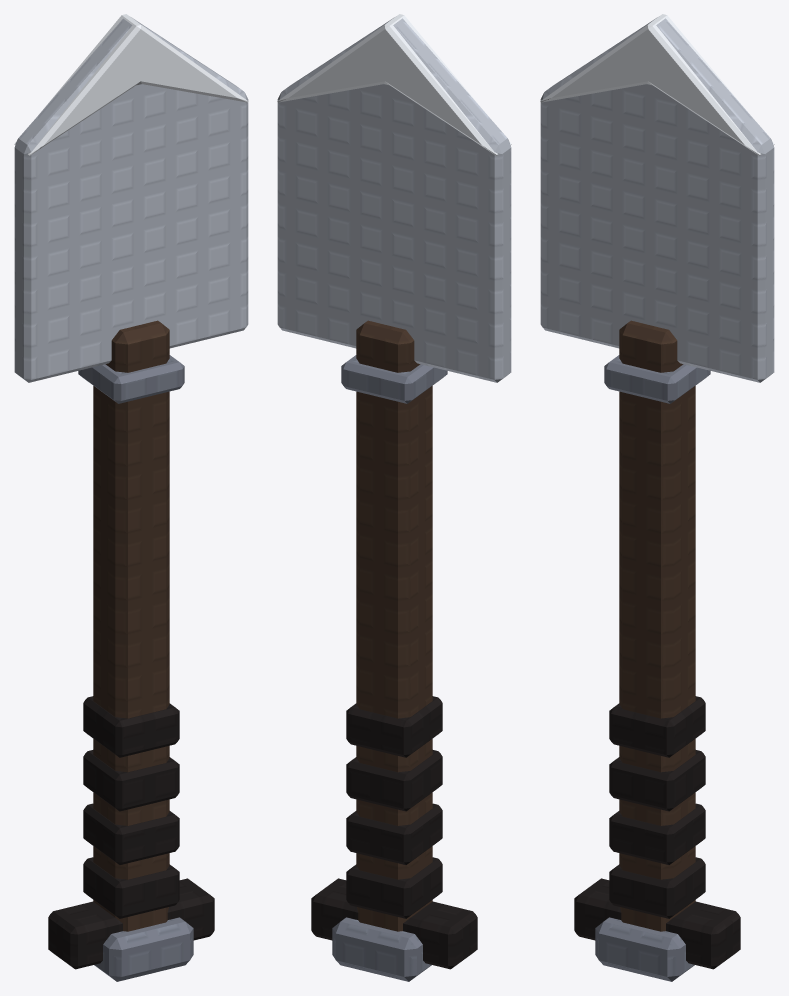
The model's file is outil_06_pelle_en_fer.glb.
3 views of the same model, side by side, from view 1: azimuth 30°, elevation 25°; view 2: azimuth 150°, elevation 25°; view 3: azimuth 330°, elevation 25° (orthographic).
Visible parts, largest first — view 1: outil_06_pelle_en_fer; view 2: outil_06_pelle_en_fer; view 3: outil_06_pelle_en_fer.
Boxes of the visible parts, box(x1,y1,x2,y2) form: outil_06_pelle_en_fer: box(14, 14, 248, 981); outil_06_pelle_en_fer: box(277, 14, 511, 981); outil_06_pelle_en_fer: box(540, 14, 774, 981).
Bounding box in the file's own units: 1.4 × 5.6 × 0.527.
1 material, 1 textured.
